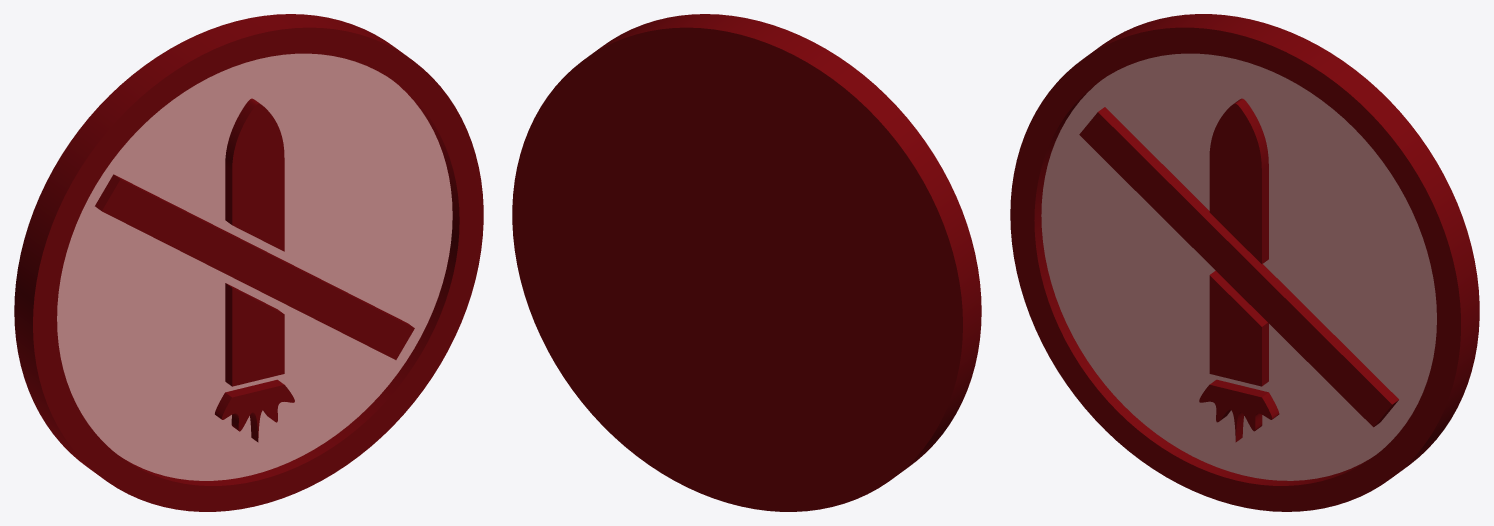
File: NoMisilieFBX 1.fbx
The picture shows the model from 3 angles, left to right: view 1: azimuth 30°, elevation 25°; view 2: azimuth 150°, elevation 25°; view 3: azimuth 330°, elevation 25°; orthographic projection.
Visible parts, largest first — view 1: Foreground; view 2: Foreground; view 3: Foreground.
Boxes of the visible parts, x1=… form: Foreground: x1=14, y1=14, x2=483, y2=511; Foreground: x1=512, y1=14, x2=981, y2=511; Foreground: x1=1010, y1=14, x2=1479, y2=511.
Size of the model in its own units: 11197 by 11199 by 800.
